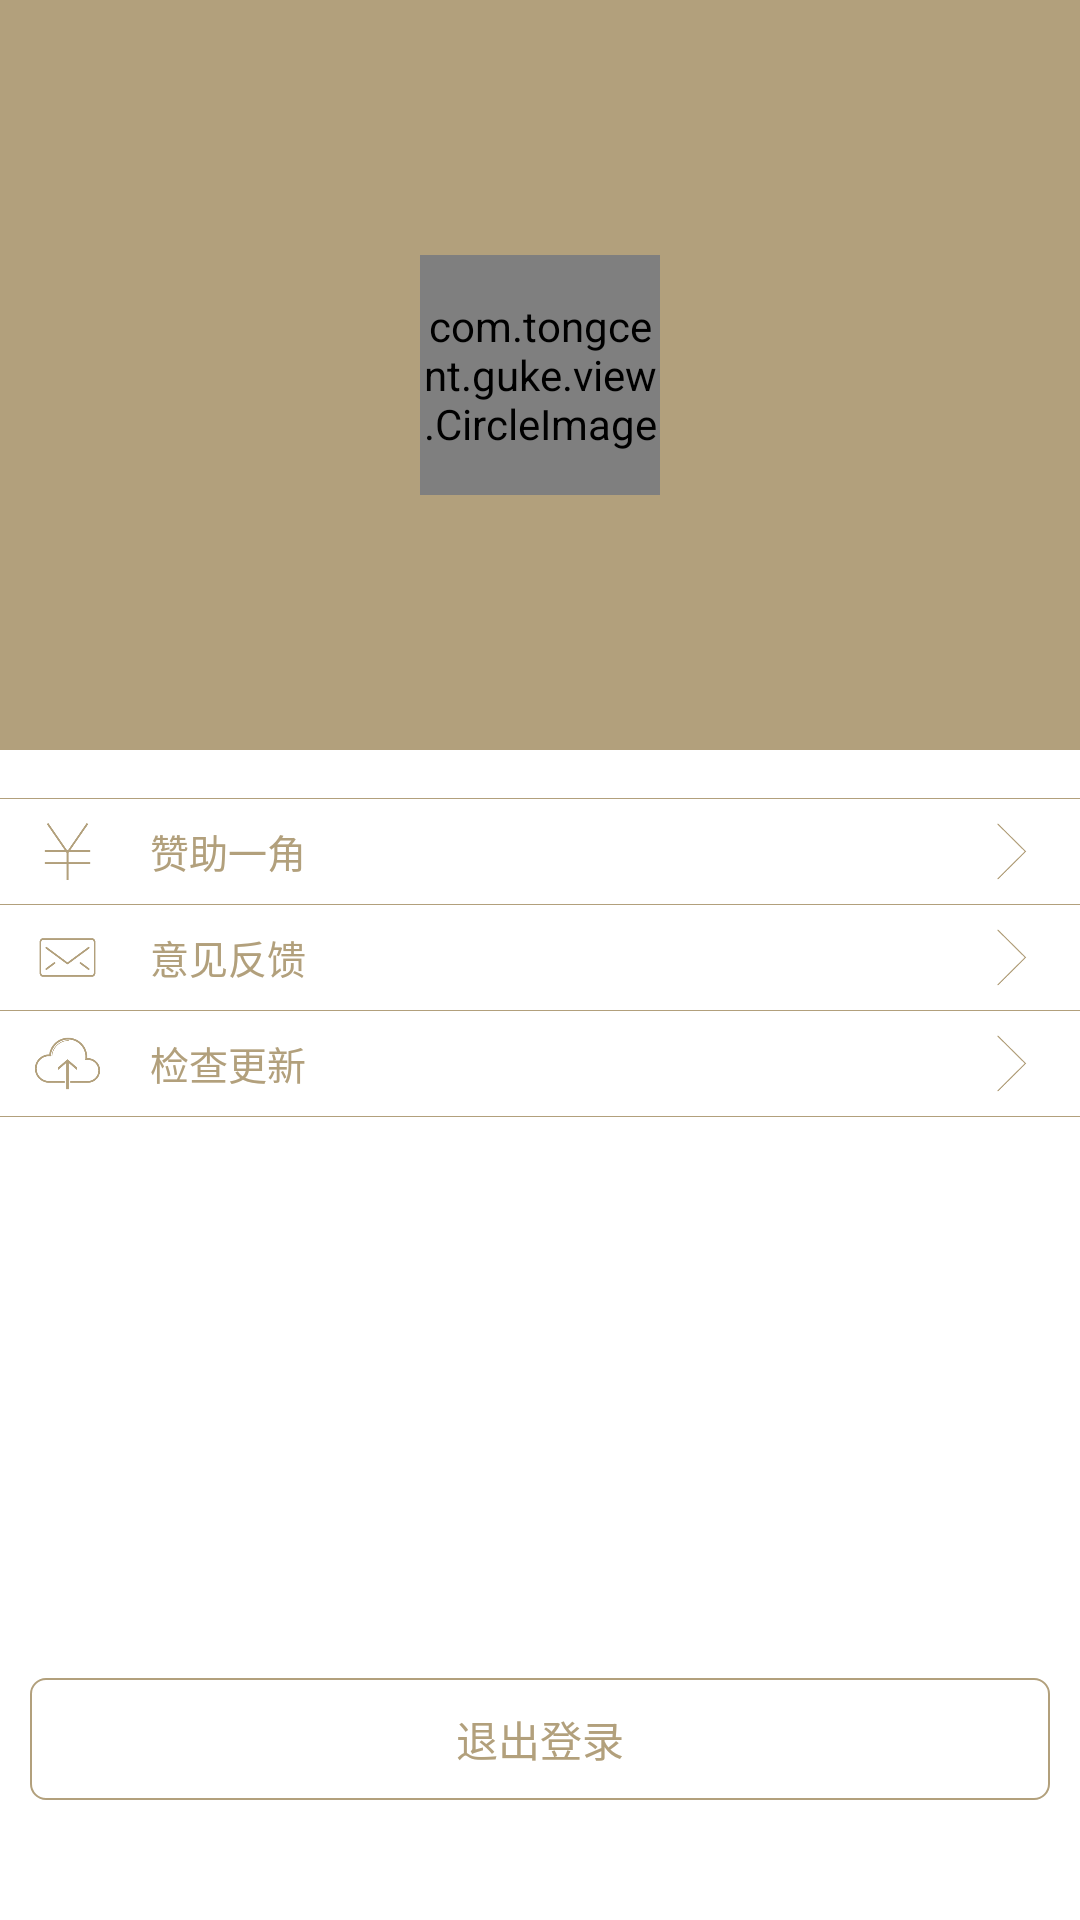

Icons on this 1080×1920 Android screen, each with the point to tap as [x,y]:
feedback: [67,957]
update: [67,1063]
